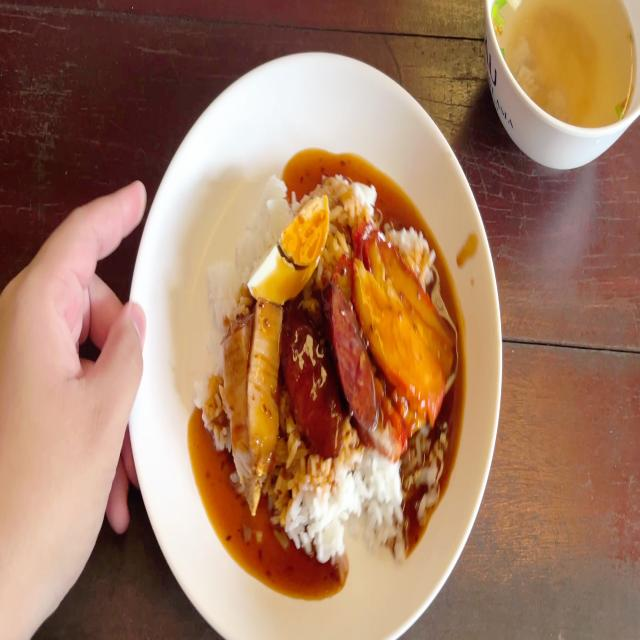boiled_egg: (249, 196, 329, 298)
chainese_sausage: (328, 273, 374, 442), (287, 305, 339, 445)
crispy_pork: (228, 323, 256, 498), (252, 304, 282, 461)
red_pork: (358, 226, 446, 403), (368, 228, 457, 380), (352, 267, 436, 403)
red_pork_and_crispy_pork: (198, 176, 454, 568)
rice: (276, 453, 402, 545), (194, 334, 226, 468), (206, 231, 250, 320), (252, 179, 289, 243), (337, 173, 373, 221)
